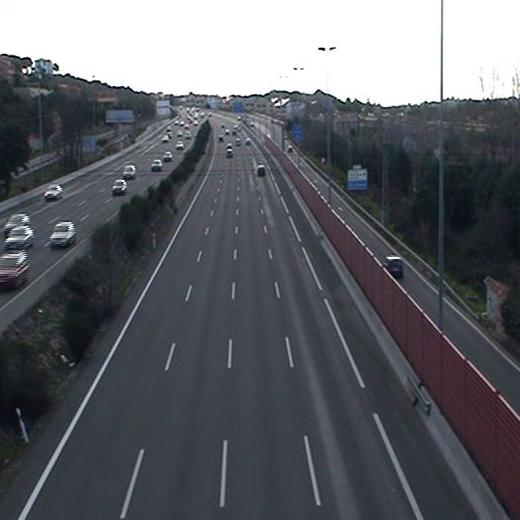car: (256, 163, 268, 178)
